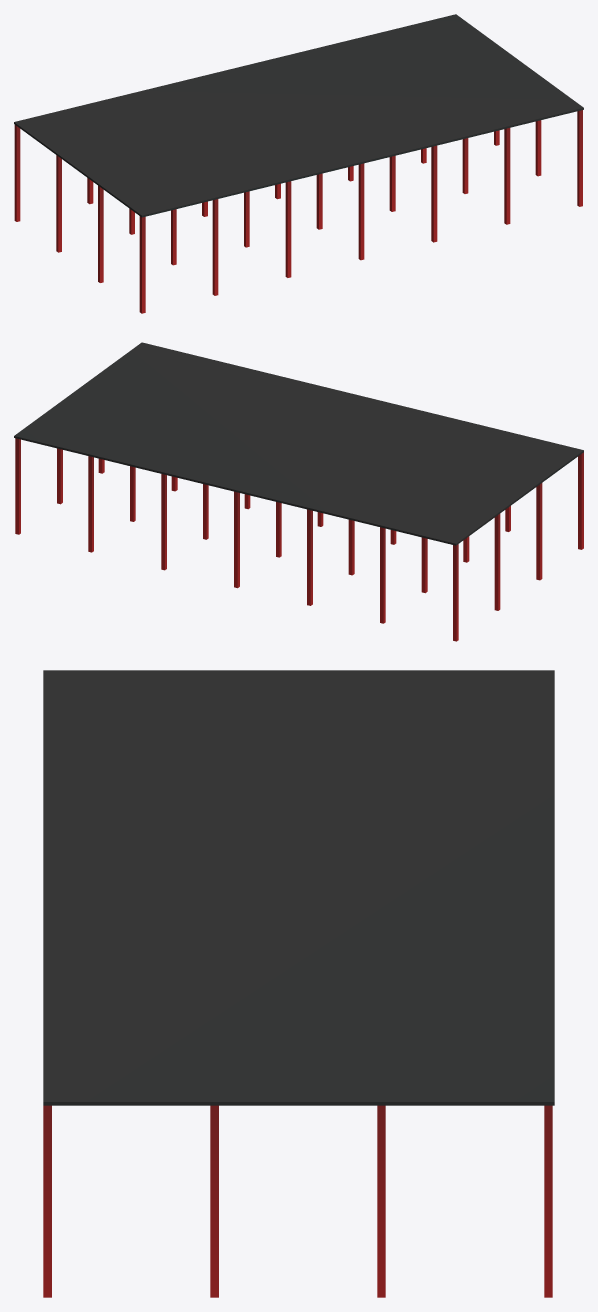
3 renders of one model, top to bottom at view 1: azimuth 30°, elevation 25°; view 2: azimuth 150°, elevation 25°; view 3: azimuth 270°, elevation 25°, orthographic. The views are drawn at different scales.
Parts seen in each view (by area): view 1: top, leg.001, leg.004, leg.003, leg.002, leg.005, leg.006, leg.022, leg.007, leg.015, leg.008; view 2: top, leg.008, leg.015, leg.022, leg.023, leg.024, leg.027, leg.028, leg.025, leg.001, leg.026; view 3: top, leg.007, leg.014, leg.021, leg.028.
Part boxes in pixels (<box>): top: <box>14,14,583,217</box>; leg.001: <box>139,216,145,313</box>; leg.004: <box>358,163,364,260</box>; leg.003: <box>285,181,291,277</box>; leg.002: <box>212,199,218,295</box>; leg.005: <box>431,145,437,242</box>; leg.006: <box>504,128,510,224</box>; leg.022: <box>14,125,20,221</box>; leg.007: <box>577,110,582,206</box>; leg.015: <box>56,155,61,252</box>; leg.008: <box>98,186,103,282</box>; top: <box>14,342,583,545</box>; leg.008: <box>536,483,542,580</box>; leg.015: <box>494,514,500,610</box>; leg.022: <box>453,544,458,641</box>; leg.023: <box>380,527,385,623</box>; leg.024: <box>307,509,312,605</box>; leg.027: <box>88,456,93,552</box>; leg.028: <box>15,438,20,534</box>; leg.025: <box>234,491,239,588</box>; leg.001: <box>578,452,583,549</box>; leg.026: <box>161,474,166,570</box>; top: <box>43,670,554,1105</box>; leg.007: <box>43,1105,51,1297</box>; leg.014: <box>210,1105,218,1297</box>; leg.021: <box>377,1105,385,1297</box>; leg.028: <box>544,1105,552,1297</box>.
Bounding box in the file's own units: 6 × 1.27 × 3.01.
